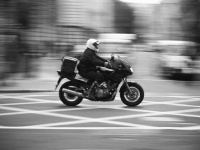Helmet: (85, 35, 100, 52)
